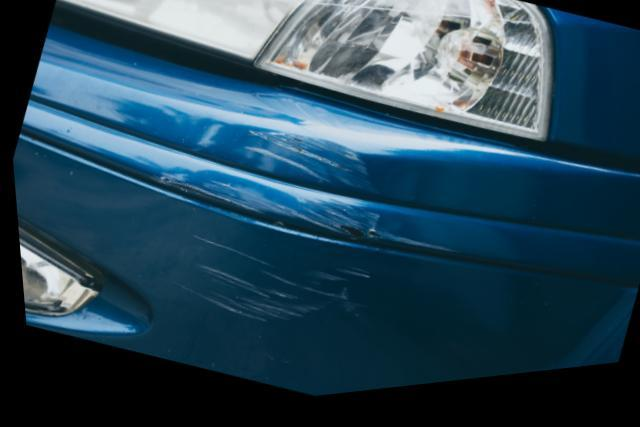scratch: (151, 132, 456, 330)
